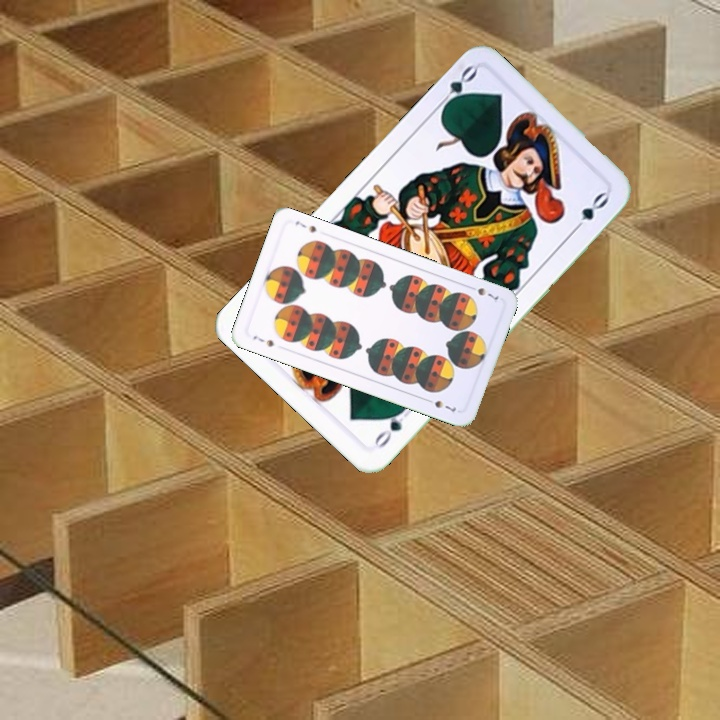GO: (432, 61, 480, 114), (370, 401, 415, 451)
S7: (464, 281, 501, 303), (249, 331, 276, 350)
